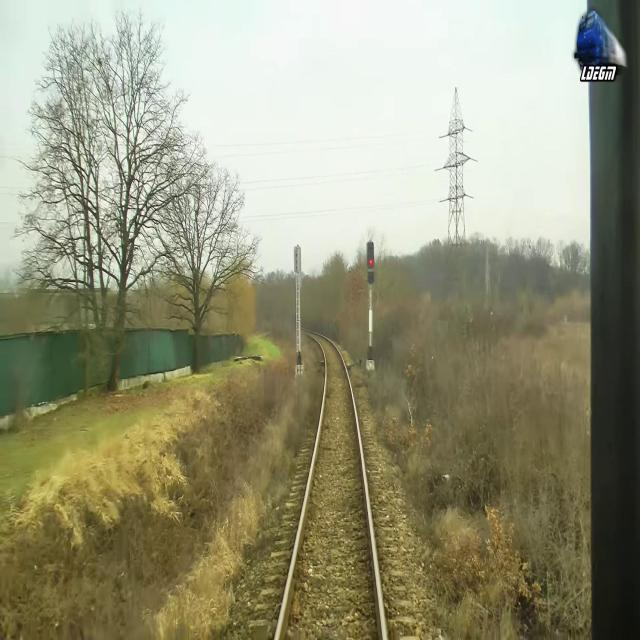rail-track: (279, 335, 382, 639)
